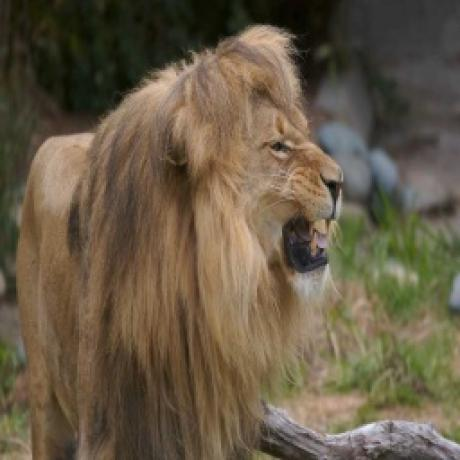Lion: (14, 20, 344, 460)
